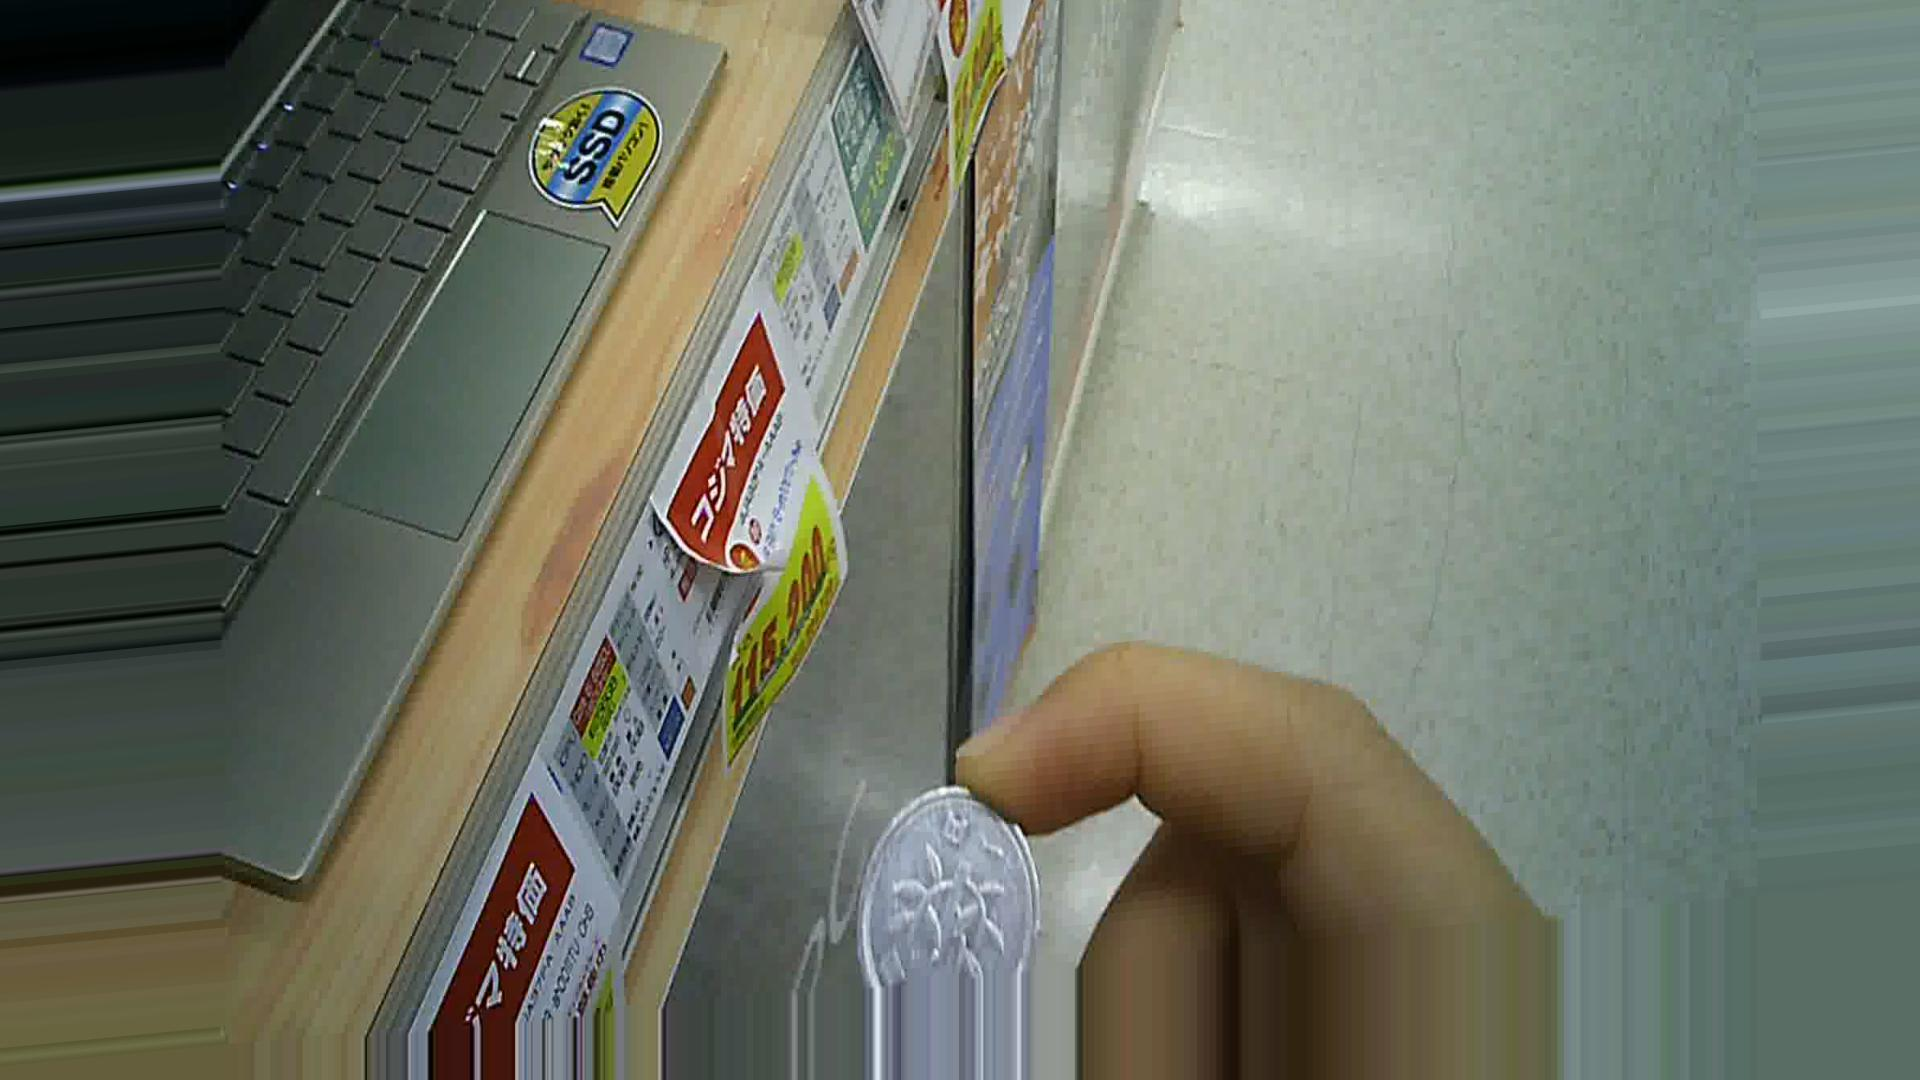1 Yen: (845, 774, 1055, 982)
